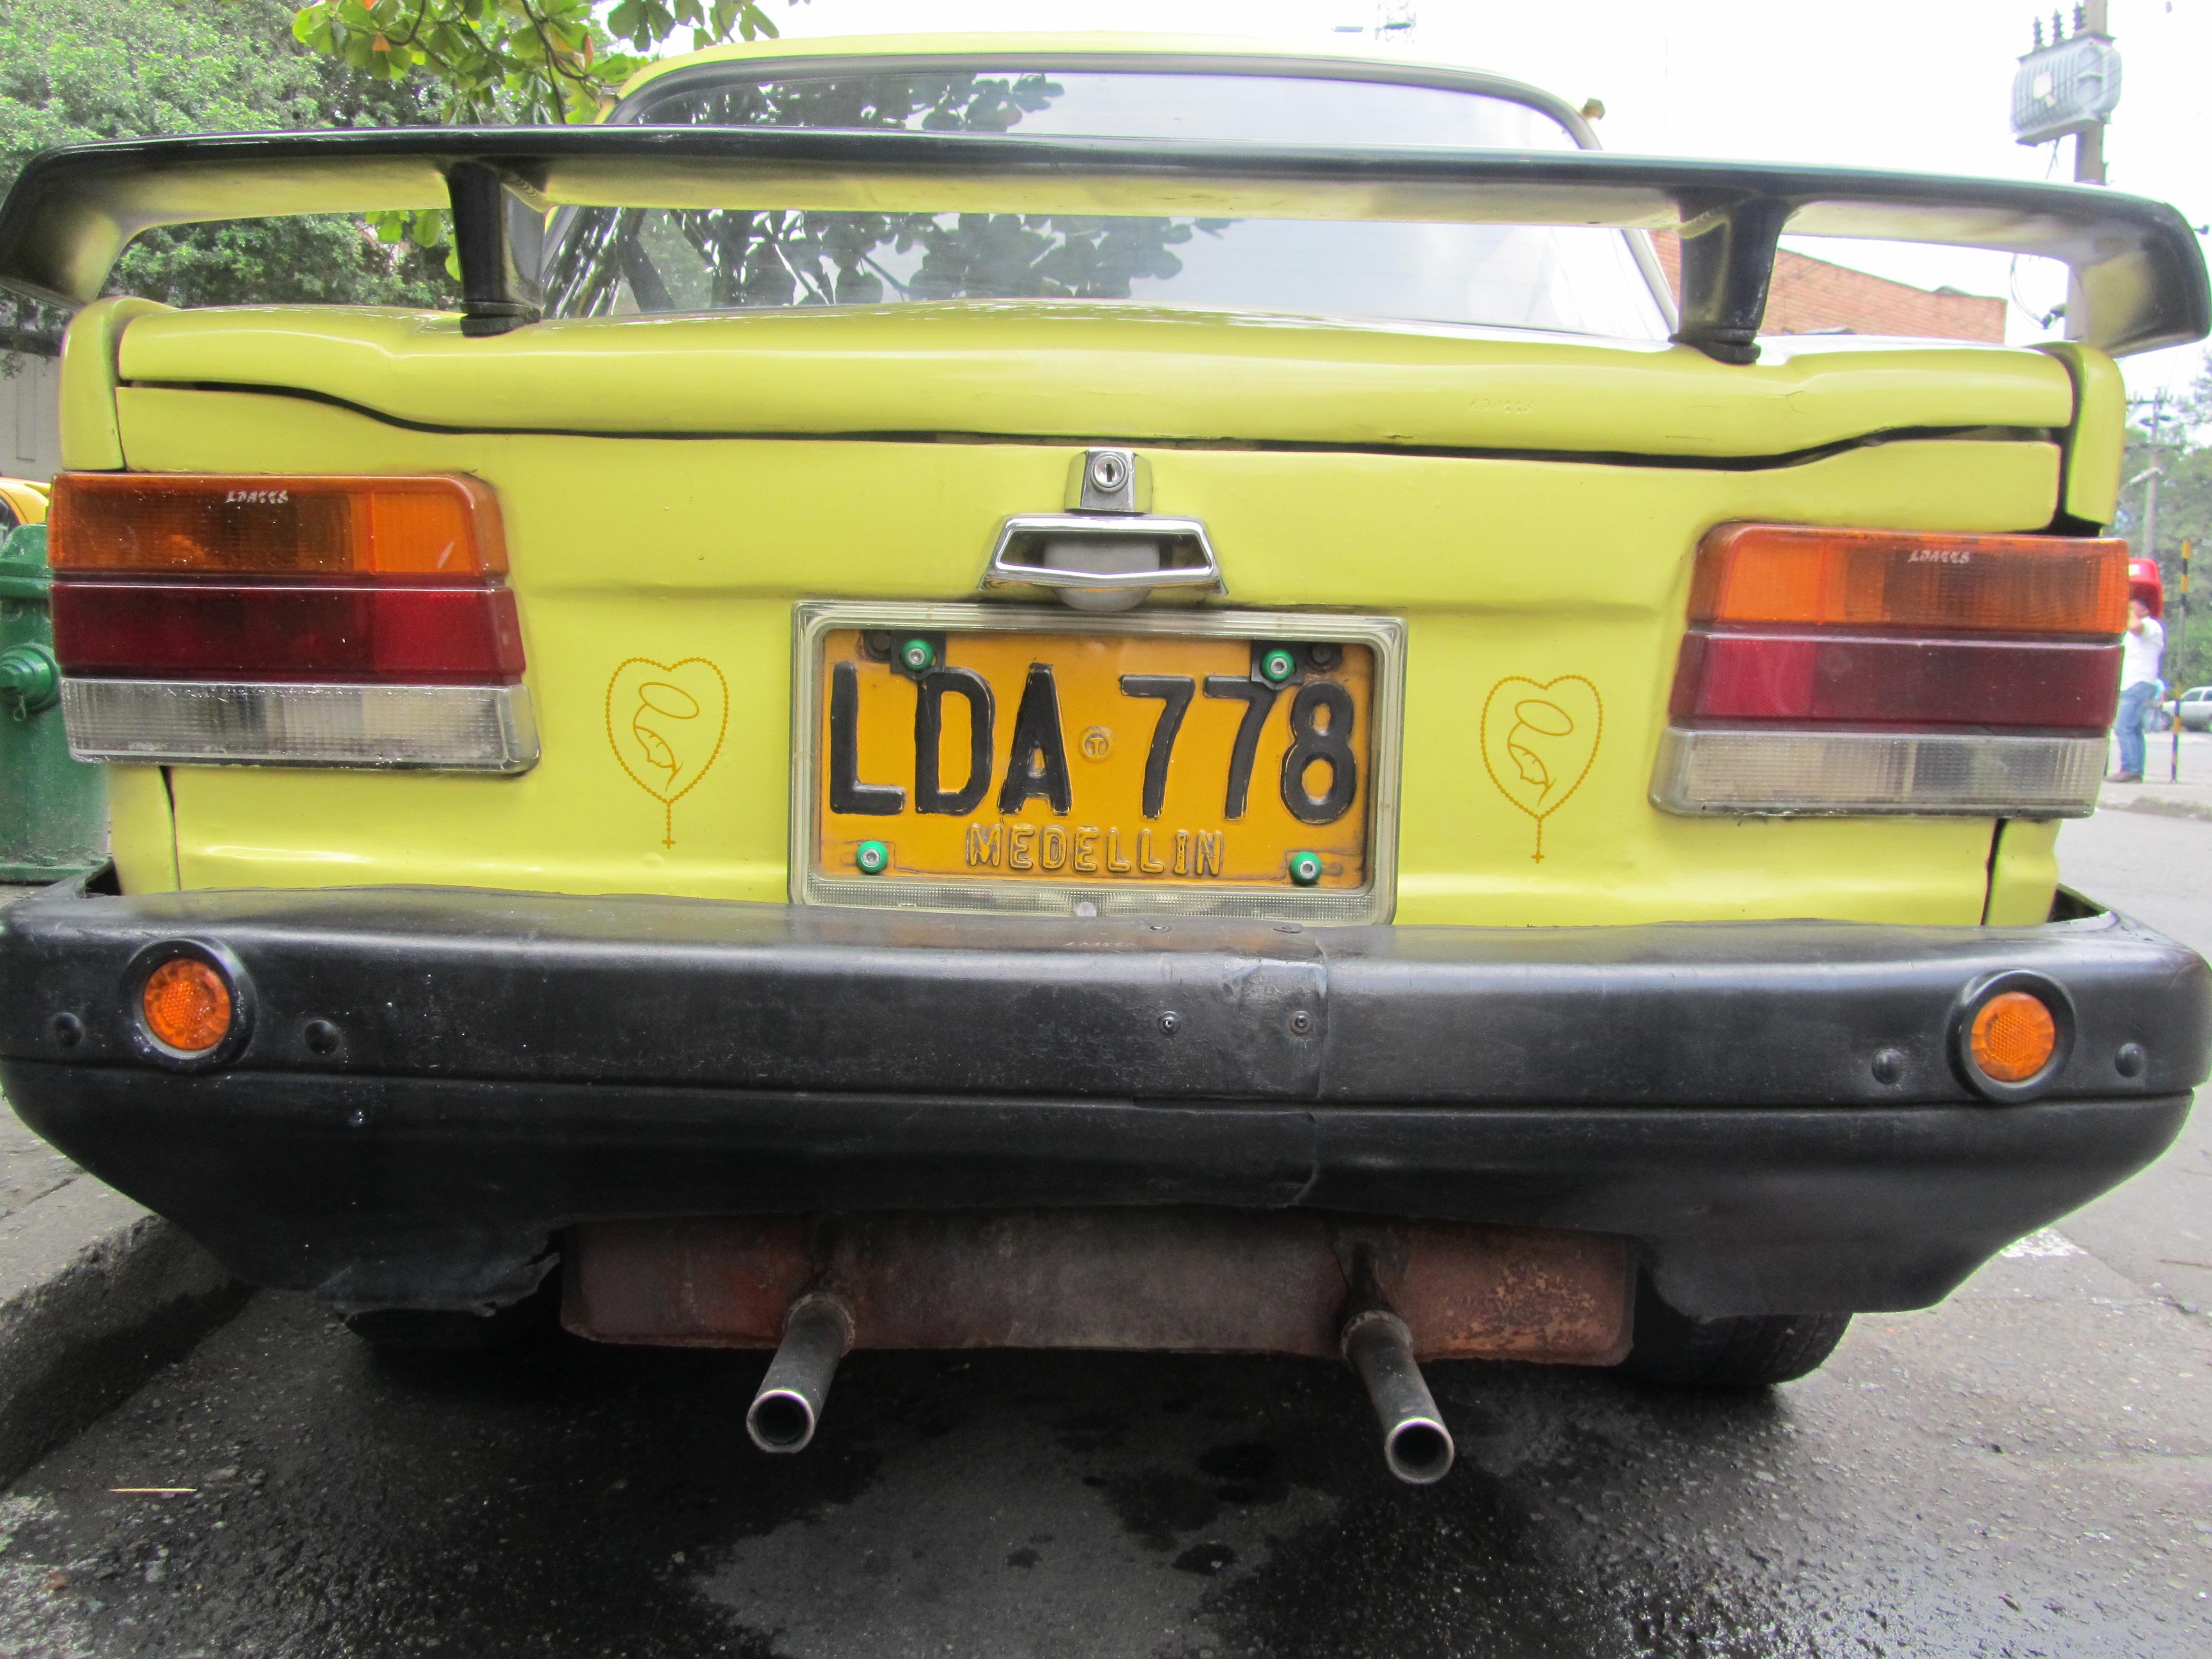taxi: (0, 0, 2212, 1650)
